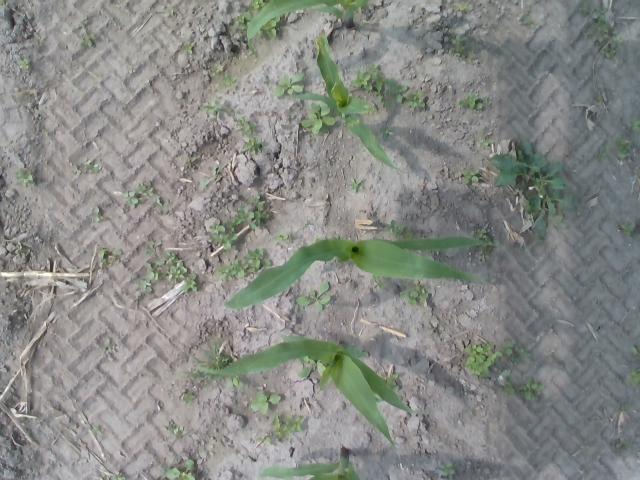Maize: (195, 331, 426, 456), (226, 234, 494, 308), (284, 34, 402, 174), (246, 0, 370, 53), (259, 448, 361, 480)
Weeds: (491, 136, 576, 244), (178, 336, 230, 387), (350, 63, 408, 108), (584, 8, 622, 59), (214, 246, 270, 280), (155, 251, 198, 292), (462, 342, 502, 380), (235, 195, 270, 230), (232, 114, 262, 154), (301, 100, 336, 134), (468, 226, 498, 263), (296, 280, 332, 310), (233, 0, 270, 29), (296, 353, 332, 382), (371, 369, 400, 403), (268, 414, 304, 440), (134, 262, 159, 298), (500, 339, 532, 367), (210, 218, 238, 250), (122, 180, 154, 208), (248, 390, 282, 416), (448, 34, 476, 64), (397, 281, 431, 305), (200, 96, 238, 116), (518, 376, 544, 403), (166, 459, 198, 480), (274, 74, 304, 96), (383, 220, 414, 241), (459, 91, 490, 110), (200, 164, 220, 192), (256, 15, 280, 38), (97, 248, 124, 268), (612, 134, 632, 159), (403, 89, 428, 109), (497, 378, 518, 397), (368, 272, 390, 289), (15, 167, 34, 186), (79, 28, 96, 48), (459, 168, 480, 184), (220, 71, 238, 89), (625, 366, 640, 387), (99, 338, 118, 354), (165, 422, 186, 436), (438, 460, 456, 476), (347, 178, 365, 192), (84, 160, 102, 174), (620, 222, 635, 238), (476, 133, 492, 147), (612, 439, 630, 450), (380, 126, 394, 140), (181, 391, 196, 404), (209, 64, 223, 77), (142, 240, 156, 253), (274, 229, 289, 241), (454, 2, 472, 12), (92, 206, 103, 222), (181, 42, 193, 56), (229, 374, 243, 386), (617, 402, 631, 414), (257, 433, 272, 444), (629, 117, 640, 132), (110, 470, 126, 480), (154, 196, 170, 206), (524, 15, 536, 28), (183, 156, 196, 168), (18, 58, 30, 70), (631, 345, 640, 359), (584, 444, 596, 453), (15, 240, 22, 253), (598, 150, 608, 159), (596, 91, 604, 102), (92, 426, 102, 434), (264, 77, 272, 84), (181, 97, 188, 103), (0, 0, 7, 3)
